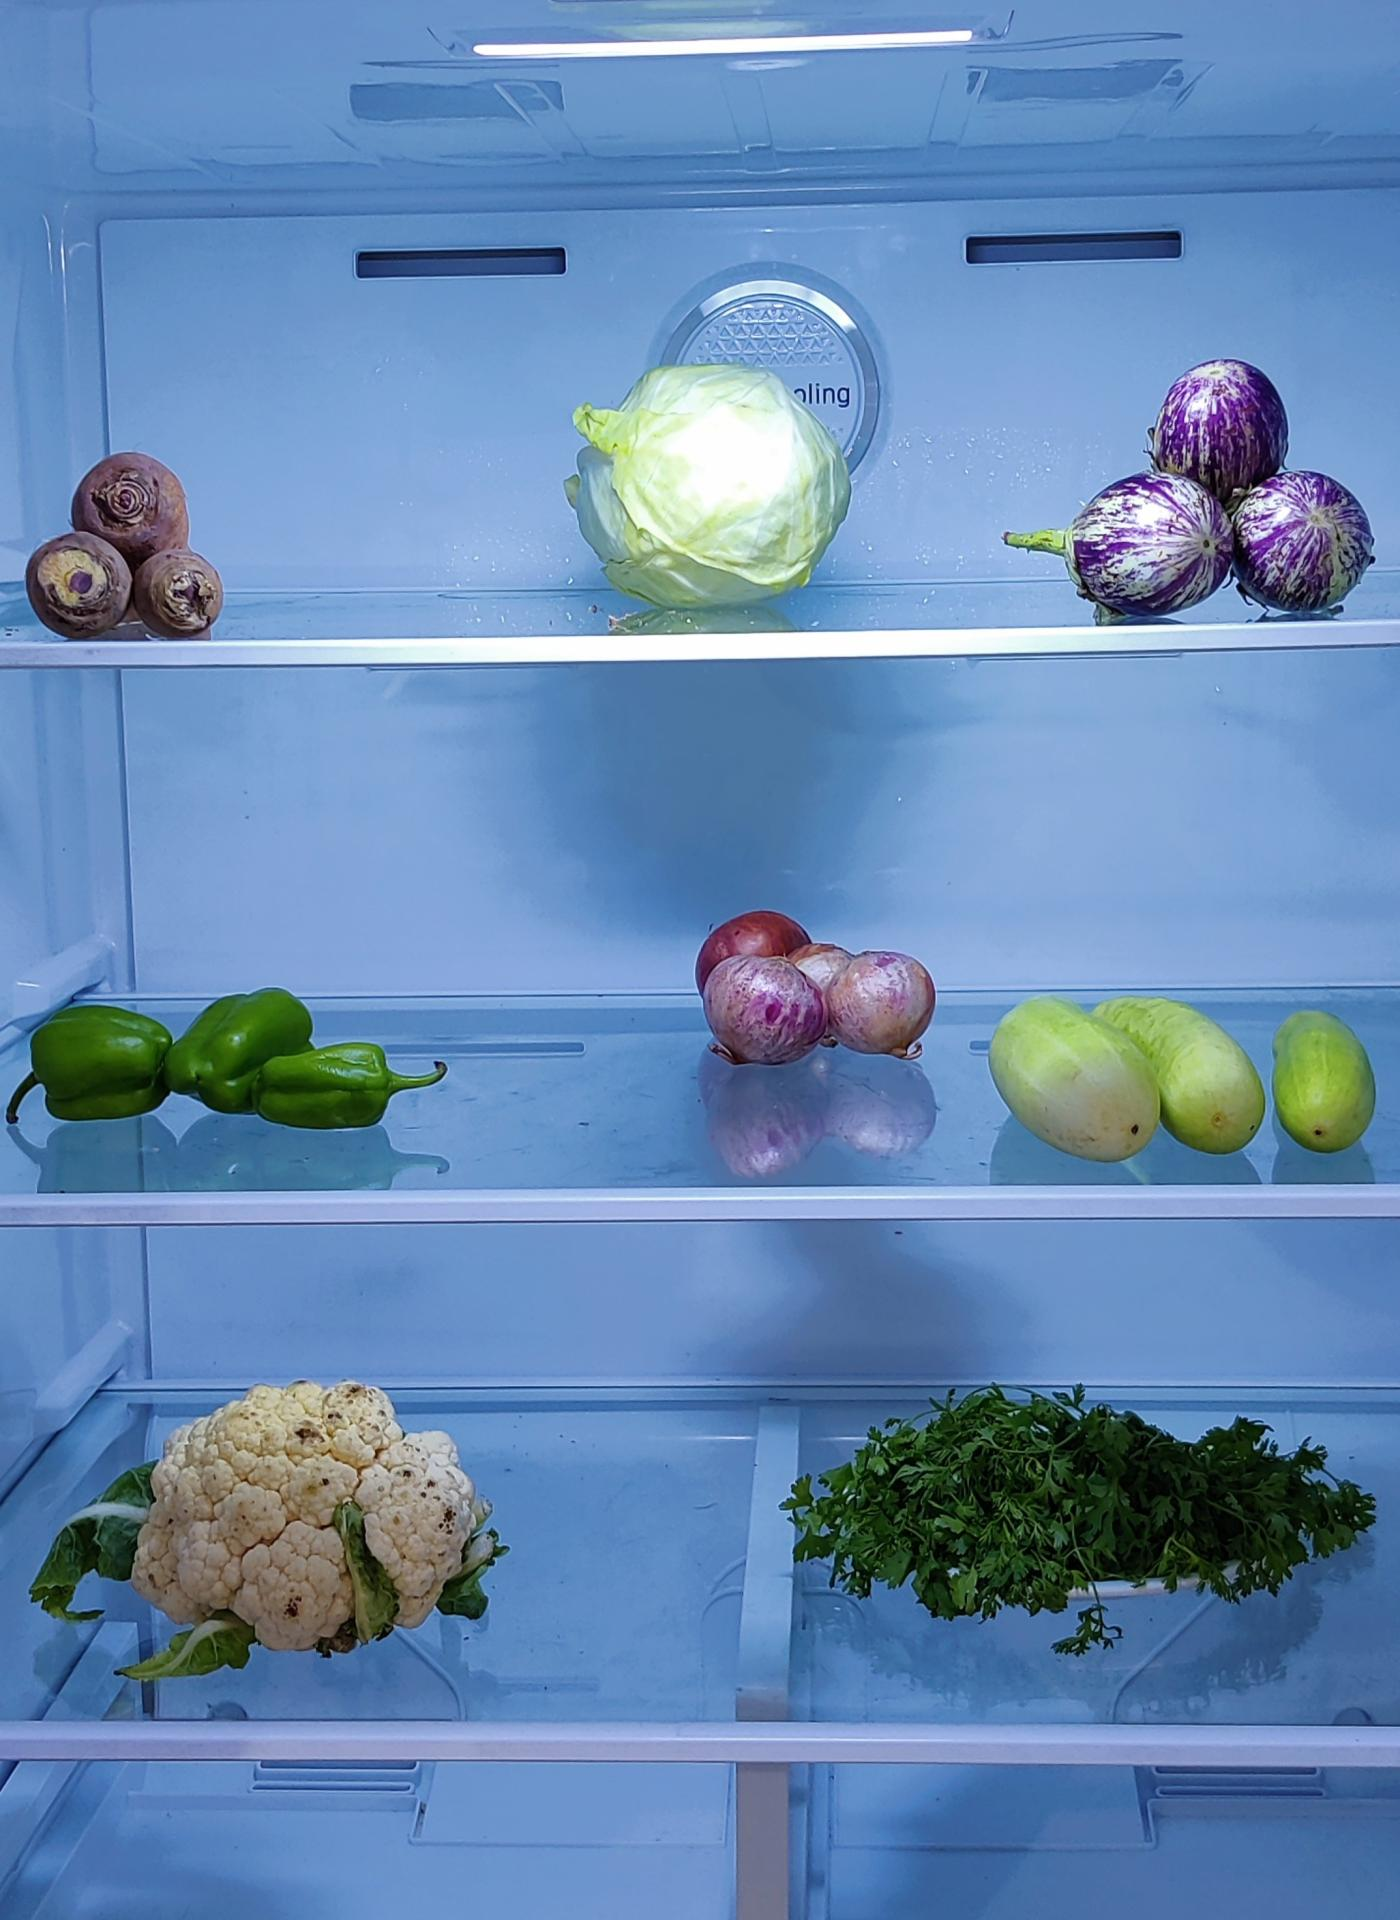brinjal: (1051, 331, 1370, 617)
cabbage: (577, 362, 857, 608)
capsicum: (10, 990, 432, 1137)
carrots: (15, 450, 228, 653)
cauliflower: (136, 1377, 501, 1656)
coriander: (784, 1388, 1358, 1614)
cucumber: (999, 1006, 1394, 1176)
onion: (695, 906, 939, 1069)
